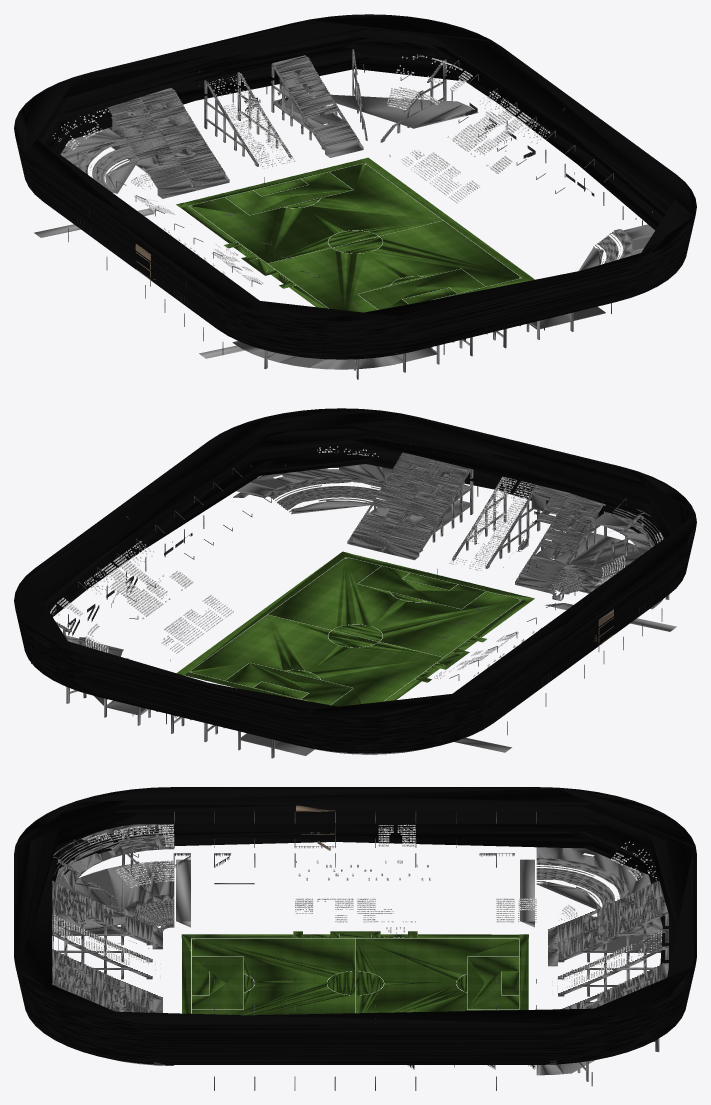
Rendered from modern_stadium_part08.glb.
3 renders of one model, top to bottom at view 1: azimuth 30°, elevation 25°; view 2: azimuth 150°, elevation 25°; view 3: azimuth 270°, elevation 25°, orthographic. The views are drawn at different scales.
Parts seen in each view (by area): view 1: Material3.015, Material3.035, Material2.001, Material2.079+Material2.080, Material2.064+Material2.068, Material2.036, Material3.003, Material2.021; view 2: Material3.015, Material3.035, Material2.001, Material2.064+Material2.068, Material2.079+Material2.080, Material2.036, Material3.003, Material2.021; view 3: Material3.015, Material3.035, Material2.001, Material2.064+Material2.068, Material2.079+Material2.080, Material3.003, Material2.036.
Part boxes in pixels (x1,y1,x2,y2): Material3.015: (14, 14, 696, 359); Material3.035: (176, 157, 534, 312); Material2.001: (60, 49, 654, 379); Material2.079+Material2.080: (52, 54, 550, 283); Material2.064+Material2.068: (111, 54, 603, 361); Material2.036: (68, 60, 642, 354); Material3.003: (34, 206, 244, 358); Material2.021: (77, 92, 594, 349); Material3.015: (14, 408, 696, 753); Material3.035: (176, 551, 534, 706); Material2.001: (55, 452, 669, 758); Material2.064+Material2.068: (106, 452, 626, 755); Material2.079+Material2.080: (50, 446, 662, 679); Material2.036: (31, 444, 662, 735); Material3.003: (454, 603, 676, 752); Material2.021: (67, 511, 652, 718); Material3.015: (14, 787, 696, 1064); Material3.035: (181, 931, 528, 1015); Material2.001: (52, 824, 668, 1081); Material2.064+Material2.068: (52, 849, 668, 1012); Material2.079+Material2.080: (52, 824, 661, 994); Material3.003: (176, 859, 534, 927); Material2.036: (73, 788, 592, 1090).
Bounding box in the file's own units: 182 × 28 × 220.
12 materials, 9 textured.
